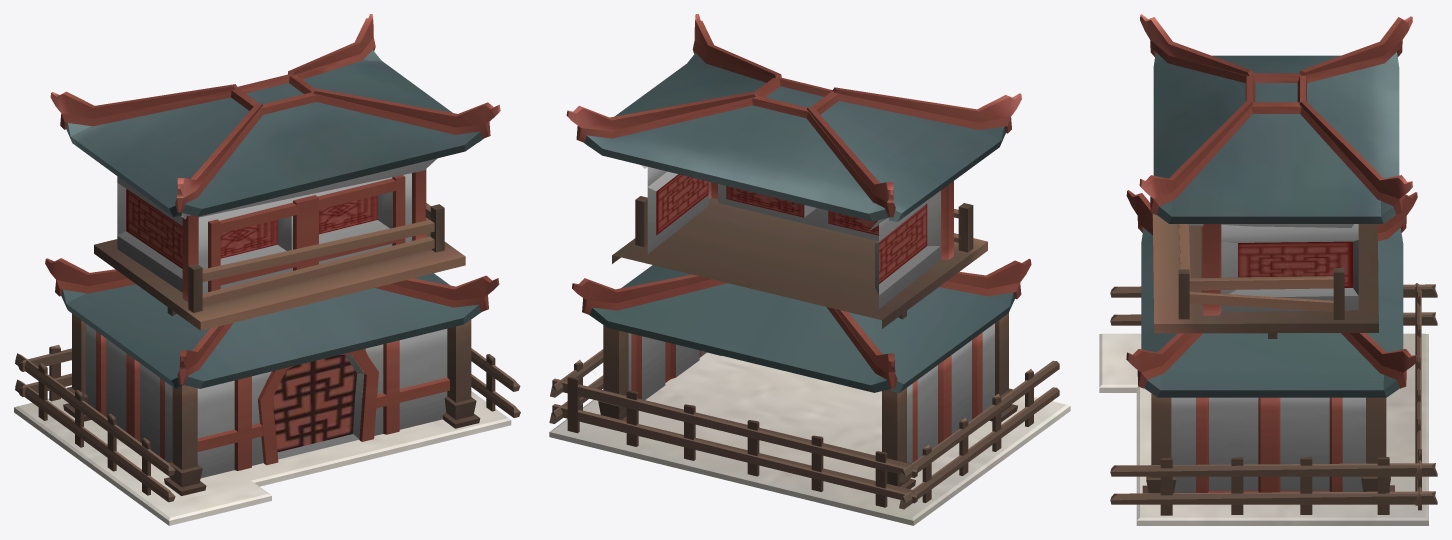
File: blacksmith_3lvl.fbx
The picture shows the model from 3 angles, left to right: view 1: azimuth 30°, elevation 25°; view 2: azimuth 150°, elevation 25°; view 3: azimuth 270°, elevation 25°; orthographic projection. The views are drawn at different scales.
Parts seen in each view (by area): view 1: blacksmith_3lvl; view 2: blacksmith_3lvl; view 3: blacksmith_3lvl.
Part boxes in pixels (x1,y1,x2,y2): blacksmith_3lvl: [14, 14, 520, 525]; blacksmith_3lvl: [549, 14, 1070, 525]; blacksmith_3lvl: [1099, 14, 1437, 525].
Size of the model in its own units: 6.01 by 5.28 by 4.6.
